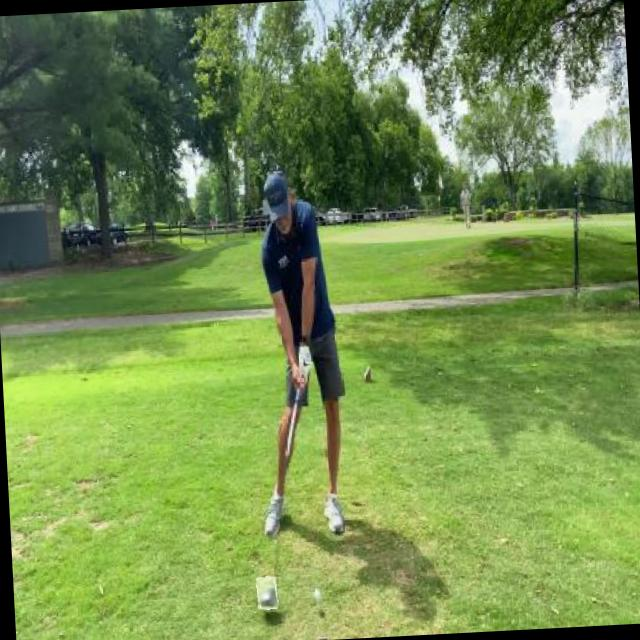club head: (256, 576, 278, 610)
